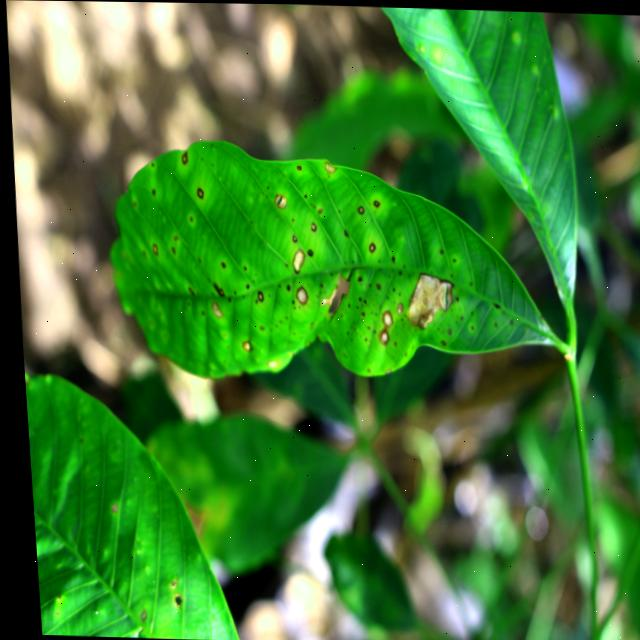Colletotrichum: (288, 247, 303, 273), (291, 284, 304, 303), (374, 327, 385, 344), (378, 310, 388, 326), (253, 290, 260, 302), (365, 241, 372, 252), (354, 204, 361, 214), (194, 187, 200, 198), (370, 198, 378, 206), (306, 221, 313, 230), (179, 153, 185, 163), (303, 248, 310, 254), (294, 164, 299, 168)
Leaf-Blight: (400, 271, 452, 329)
